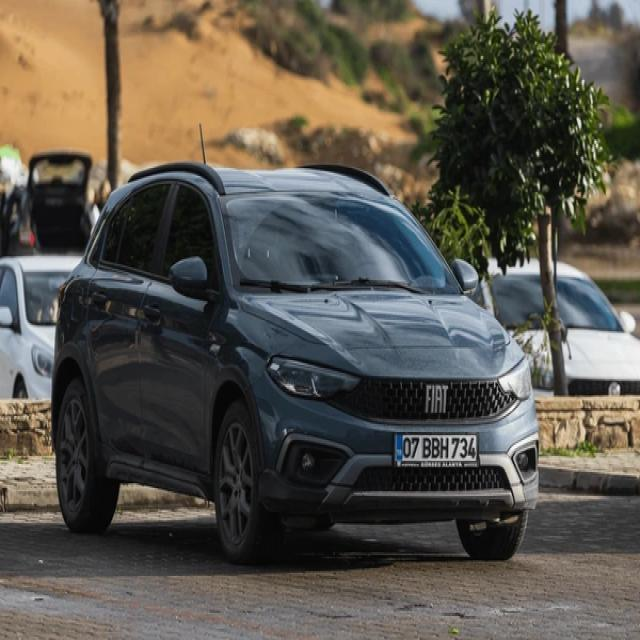fiat: (424, 381, 448, 418)
